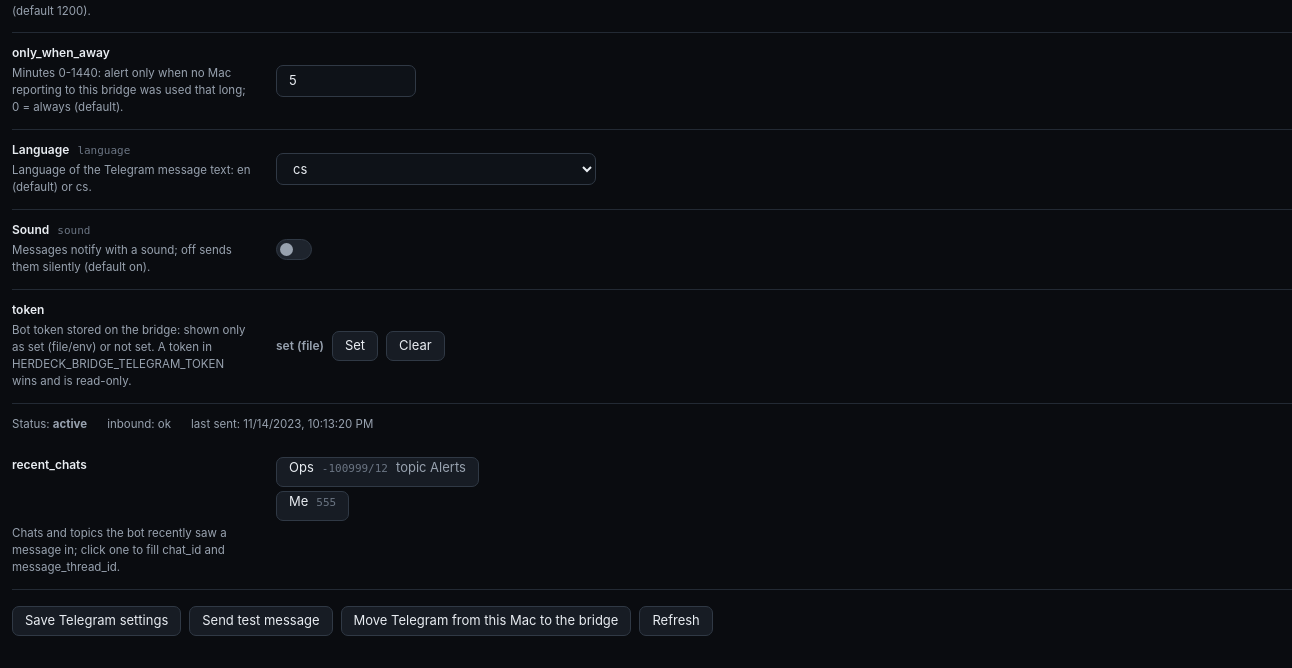
Test: move from this Mac › puts the local fields (base = current revision) then sets the token from local
(page scrolled)
Click the button "Move Telegram from this Mac to the bridge" at (486, 621), box [340,606,631,636]
(page scrolled)
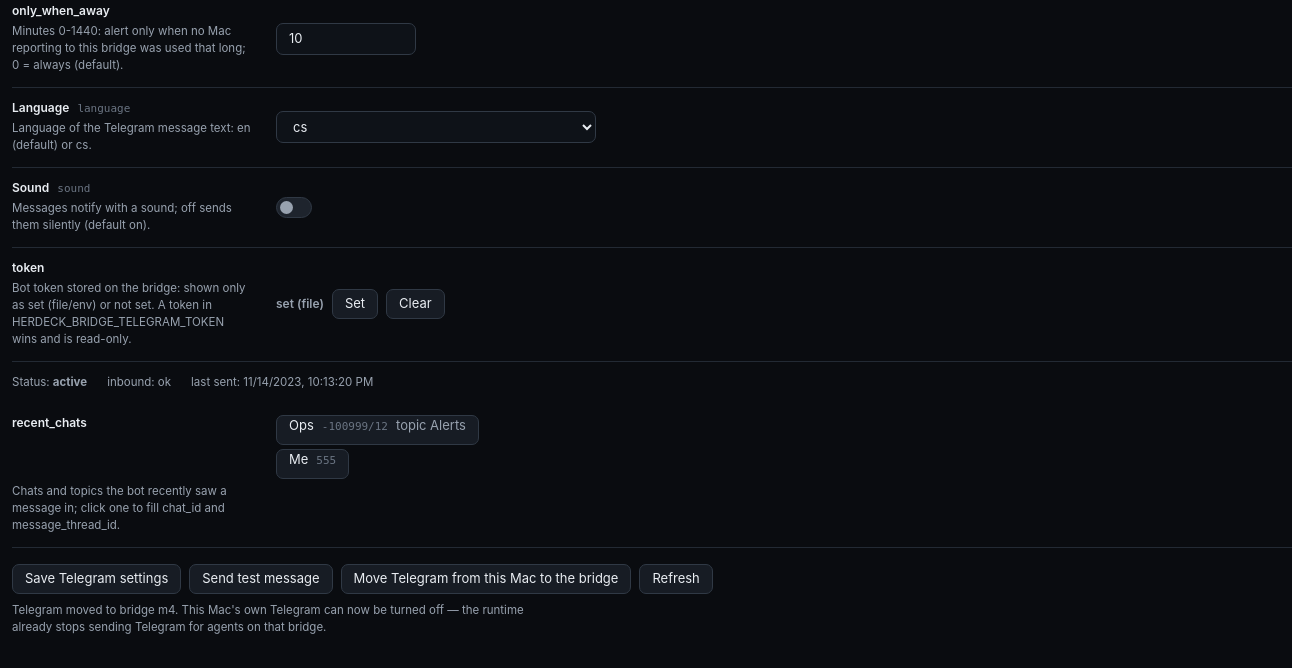
expect the message is shown: met, box [12,602,534,636]
expect the message shows "stops sending Telegram": met, box [12,603,524,634]
